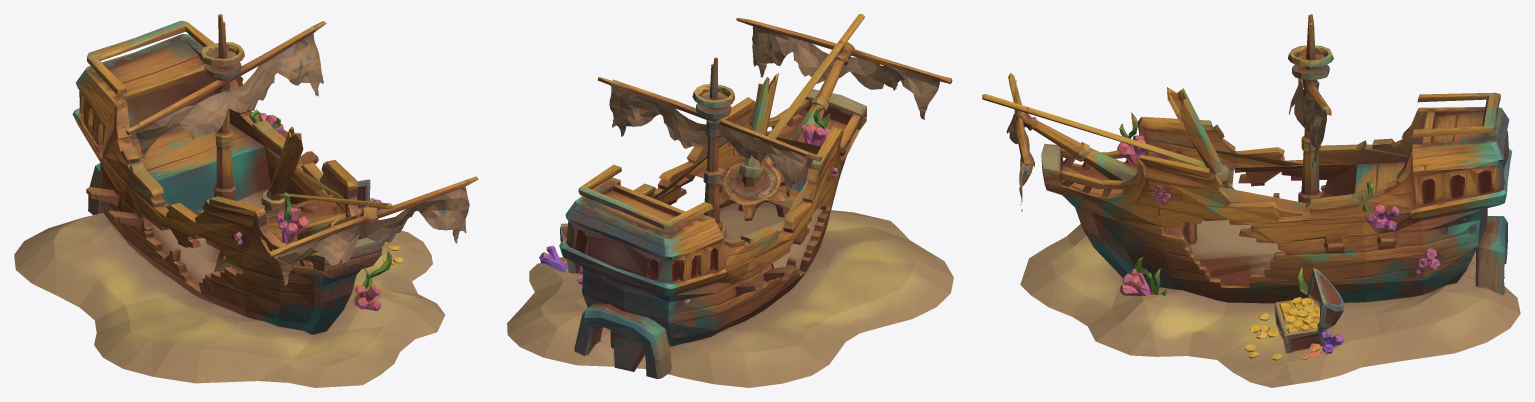
Rendered from wreck.glb.
3 renders of one model, left to right at view 1: azimuth 30°, elevation 25°; view 2: azimuth 150°, elevation 25°; view 3: azimuth 270°, elevation 25°, orthographic. The views are drawn at different scales.
Parts seen in each view (by area): view 1: wreck; view 2: wreck; view 3: wreck.
Part boxes in pixels (x1,y1,x2,y2): wreck: [14, 14, 478, 387]; wreck: [507, 14, 953, 387]; wreck: [982, 14, 1520, 387].
Bounding box in the file's own units: 48.26 × 34.18 × 60.
1 material, 1 textured.
